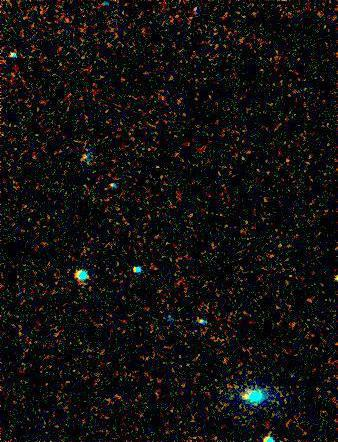star: (233, 380, 263, 410)
